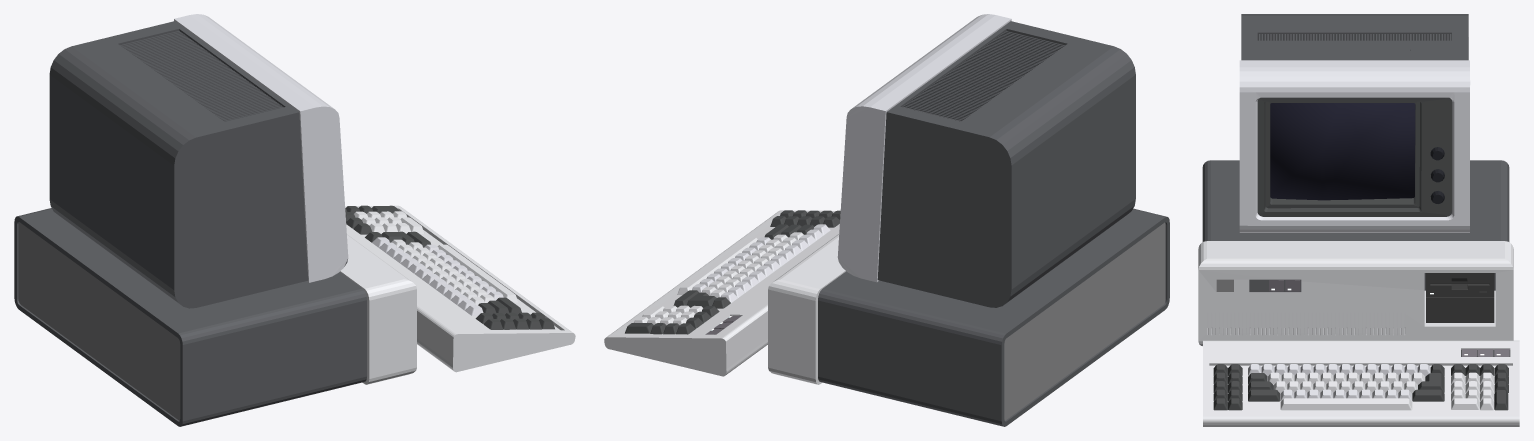
The model's file is personal_computer_pbr.glb.
3 views of the same model, side by side, from view 1: azimuth 30°, elevation 25°; view 2: azimuth 150°, elevation 25°; view 3: azimuth 270°, elevation 25° (orthographic). The views are drawn at different scales.
Visible parts, largest first — view 1: monitor_gray_0; view 2: monitor_gray_0; view 3: monitor_gray_0.
Boxes of the visible parts, <box> form: monitor_gray_0: <box>14,14,575,426</box>; monitor_gray_0: <box>604,14,1169,426</box>; monitor_gray_0: <box>1198,14,1519,426</box>.
Size of the model in its own units: 0.8653 by 0.5888 by 0.672.
Materials: 2 (2 with a texture image).
